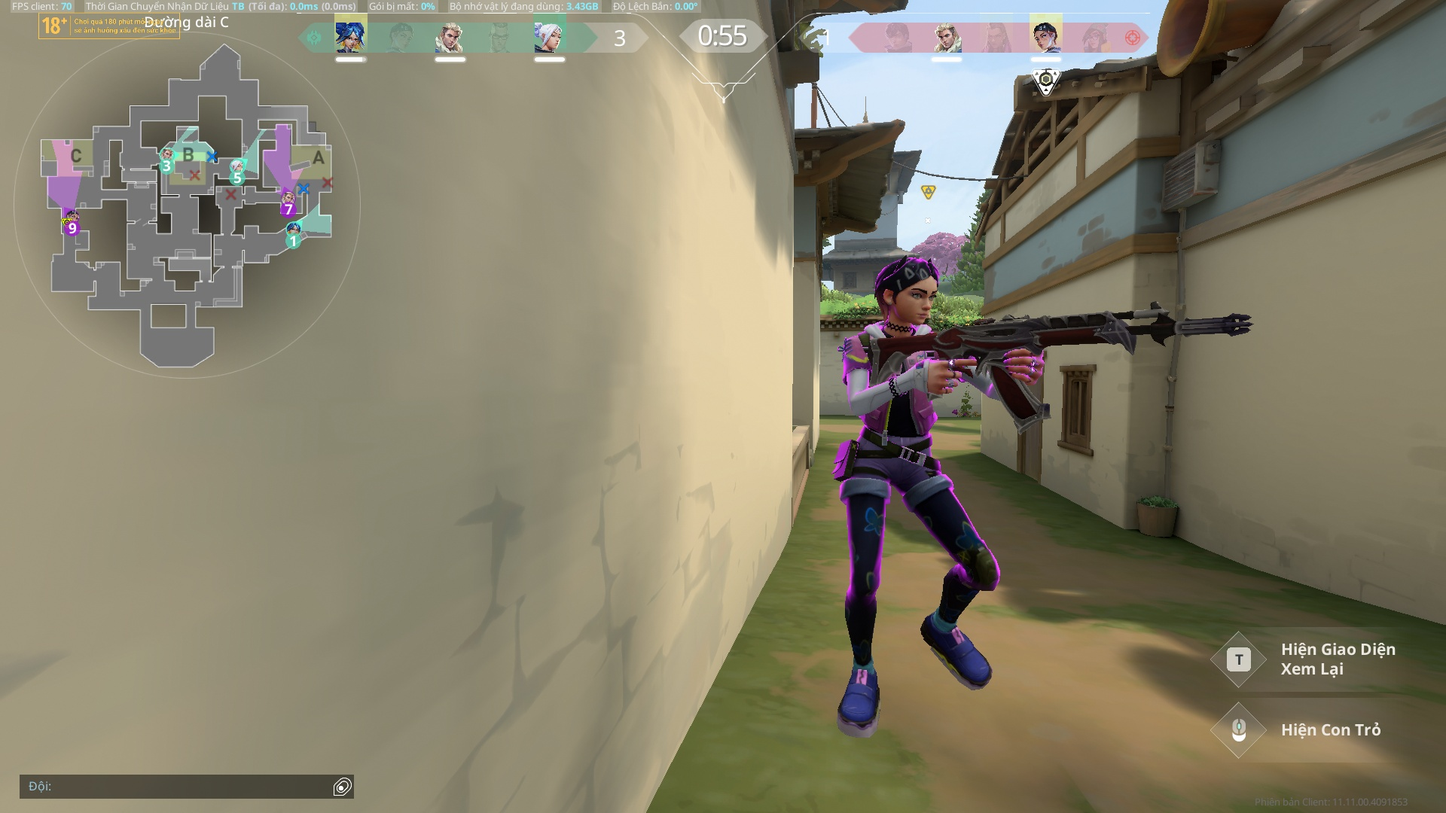body: (845, 320, 951, 432)
head: (883, 259, 937, 324)
